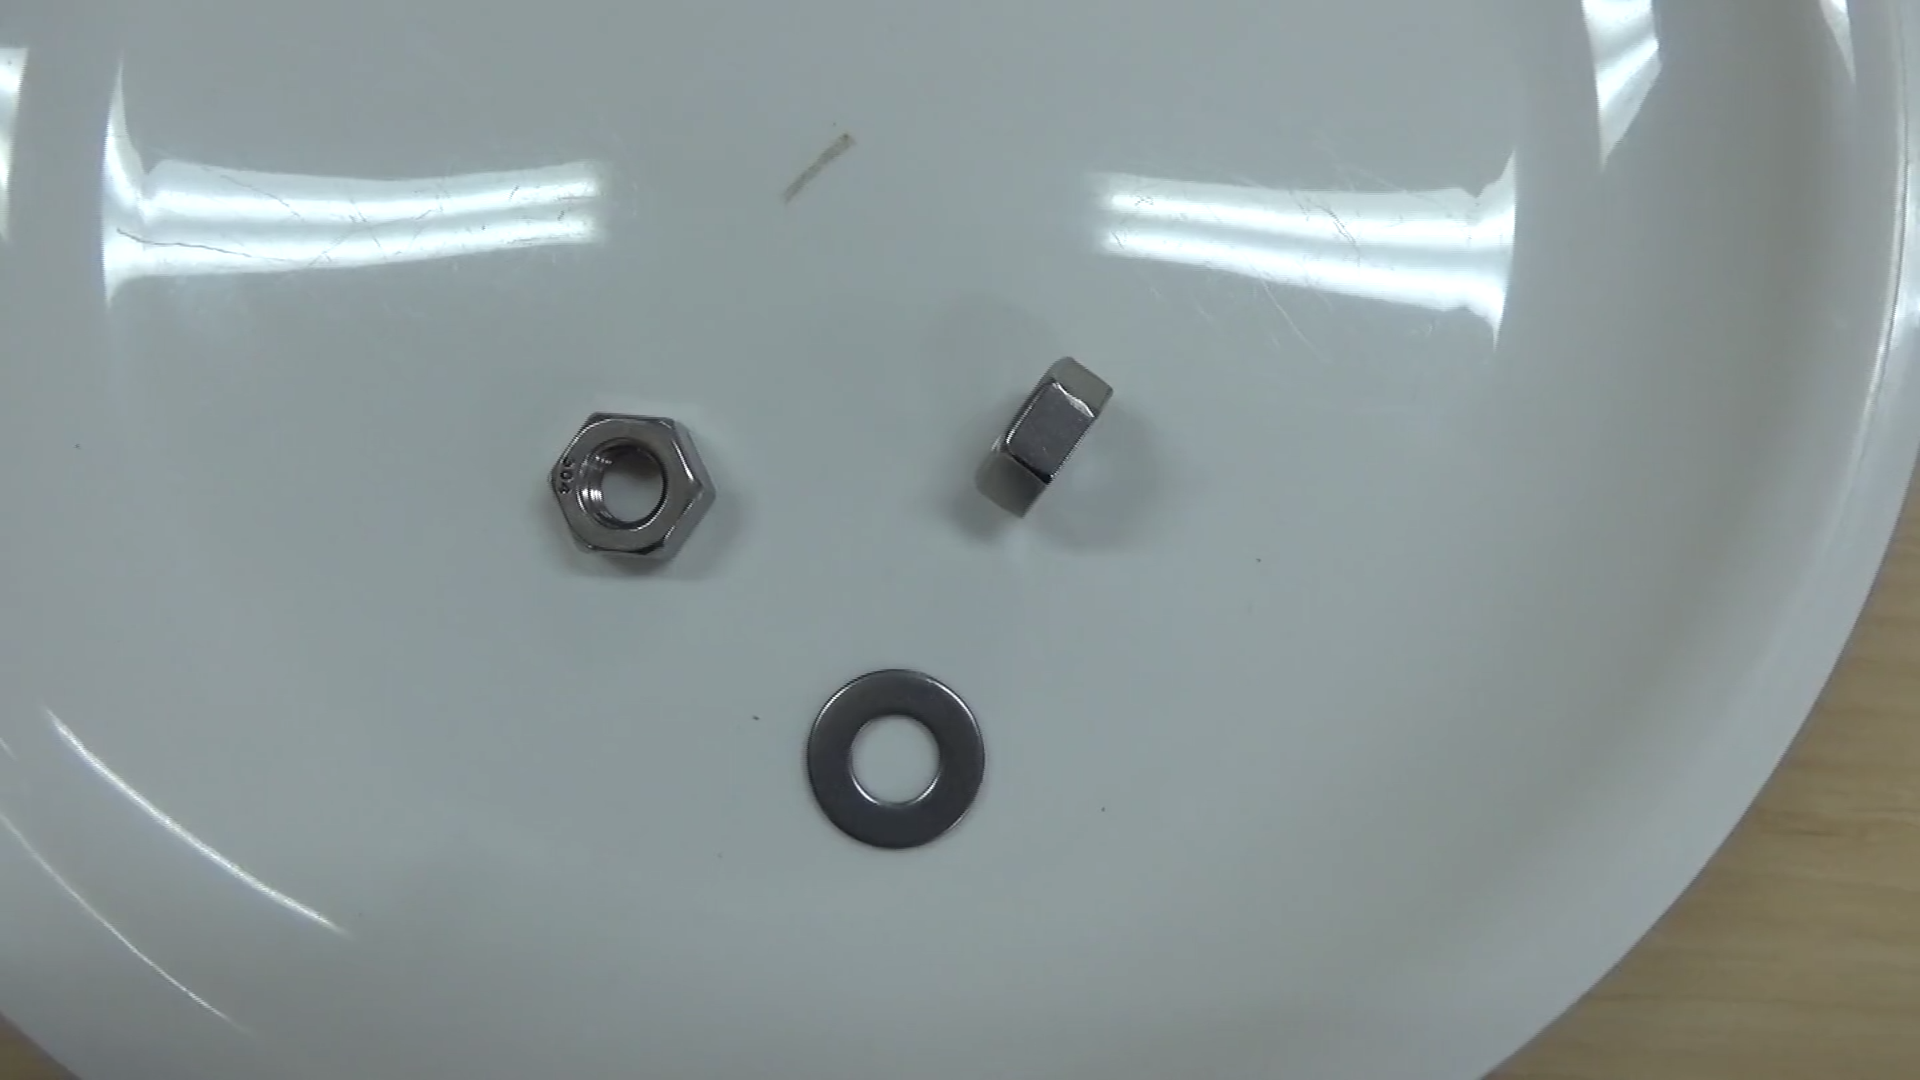nut: (535, 392, 723, 578), (964, 349, 1118, 527)
washer: (796, 658, 996, 861)
